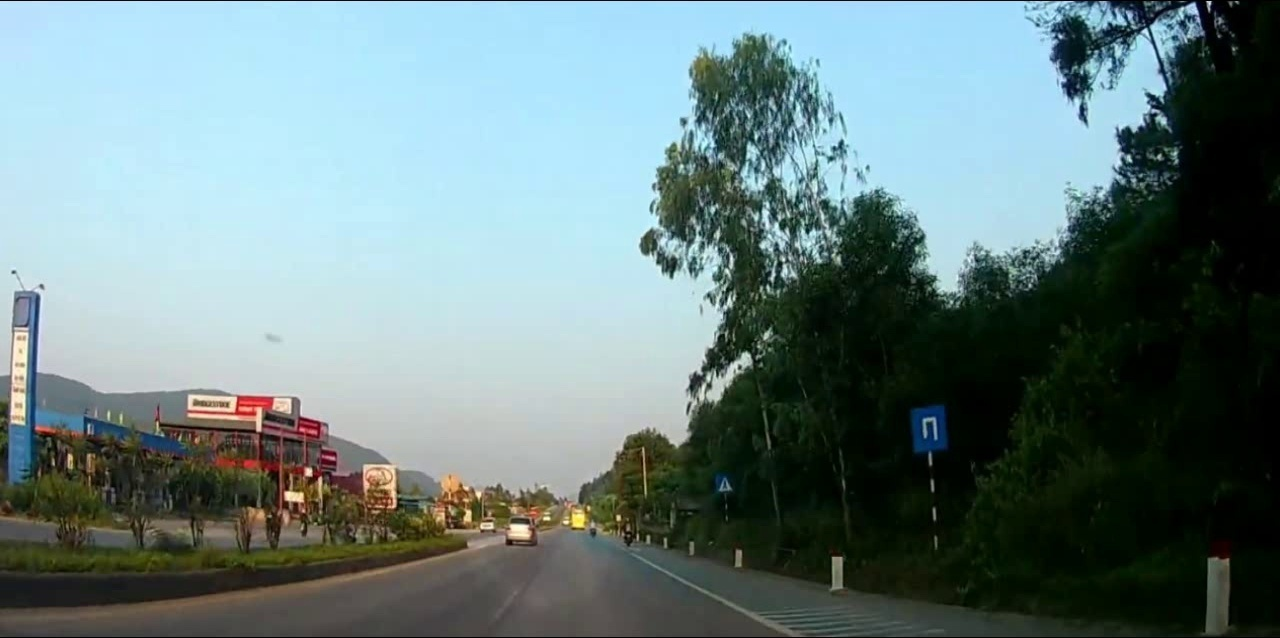Bien khac: (910, 404, 950, 454)
Nguoi di bo: (714, 473, 733, 493)
